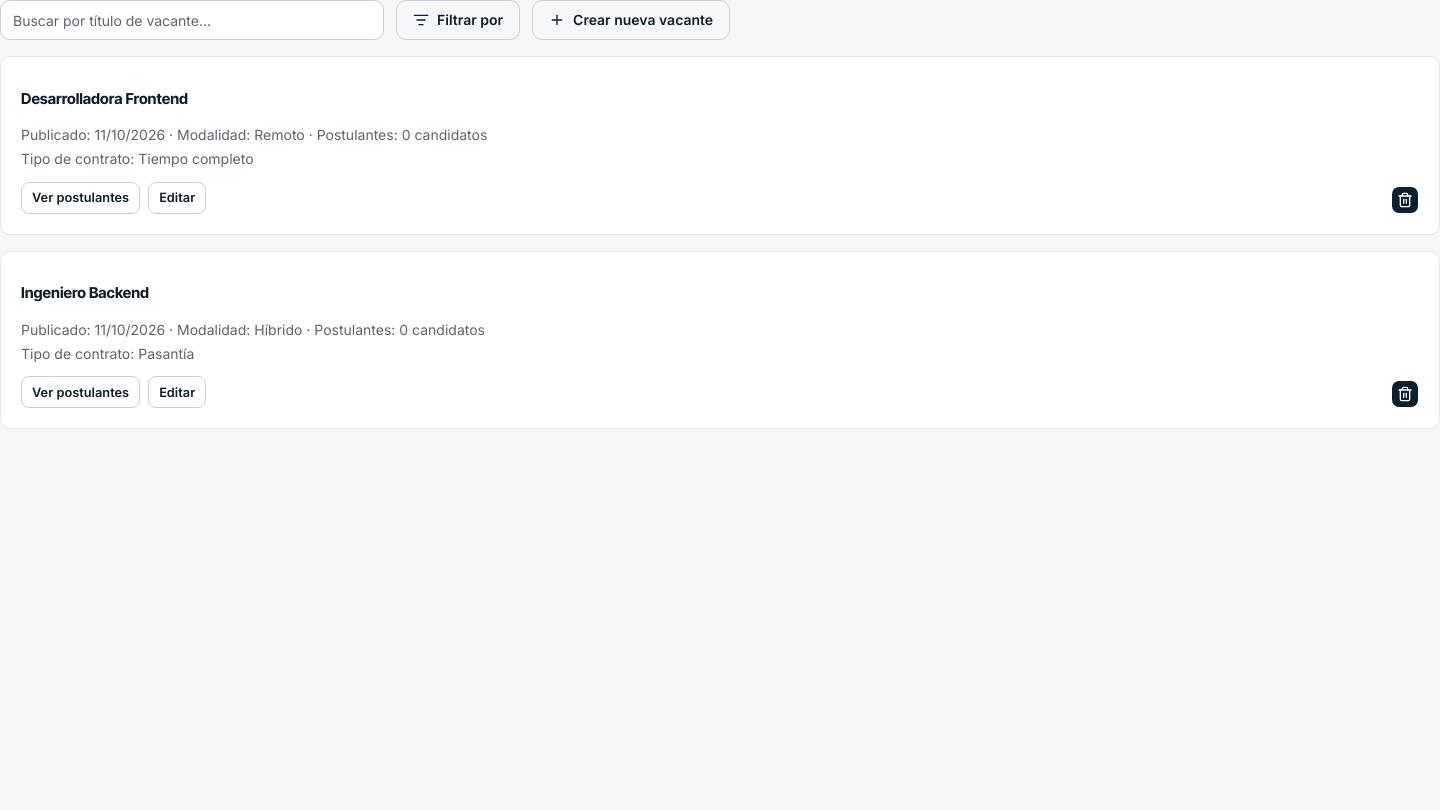
Test case: VacancyList details › abre el detalle con su encabezado y todos los campos de HU5
This screenshot has width=1440, height=810.
Click the button "Ingeniero Backend" at (85, 294), box x1=21 y1=272 x2=149 y2=316
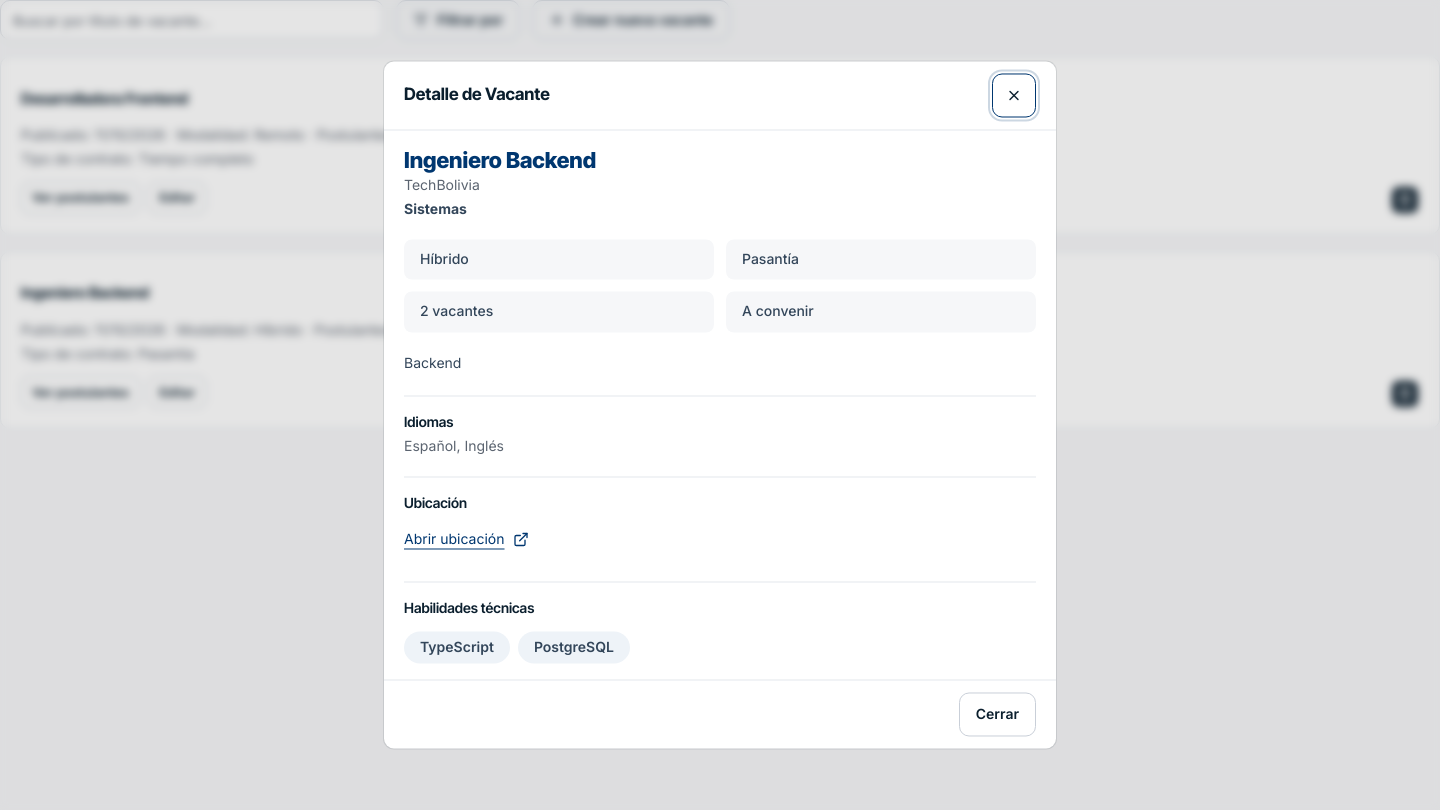
Expected: the heading "Detalle de Vacante" is shown, x1=404 y1=84 x2=550 y2=107
Expected: the heading "Ingeniero Backend" is shown, x1=404 y1=148 x2=596 y2=174
Expected: the text "Sistemas" is shown, x1=404 y1=200 x2=467 y2=217
Press Escape
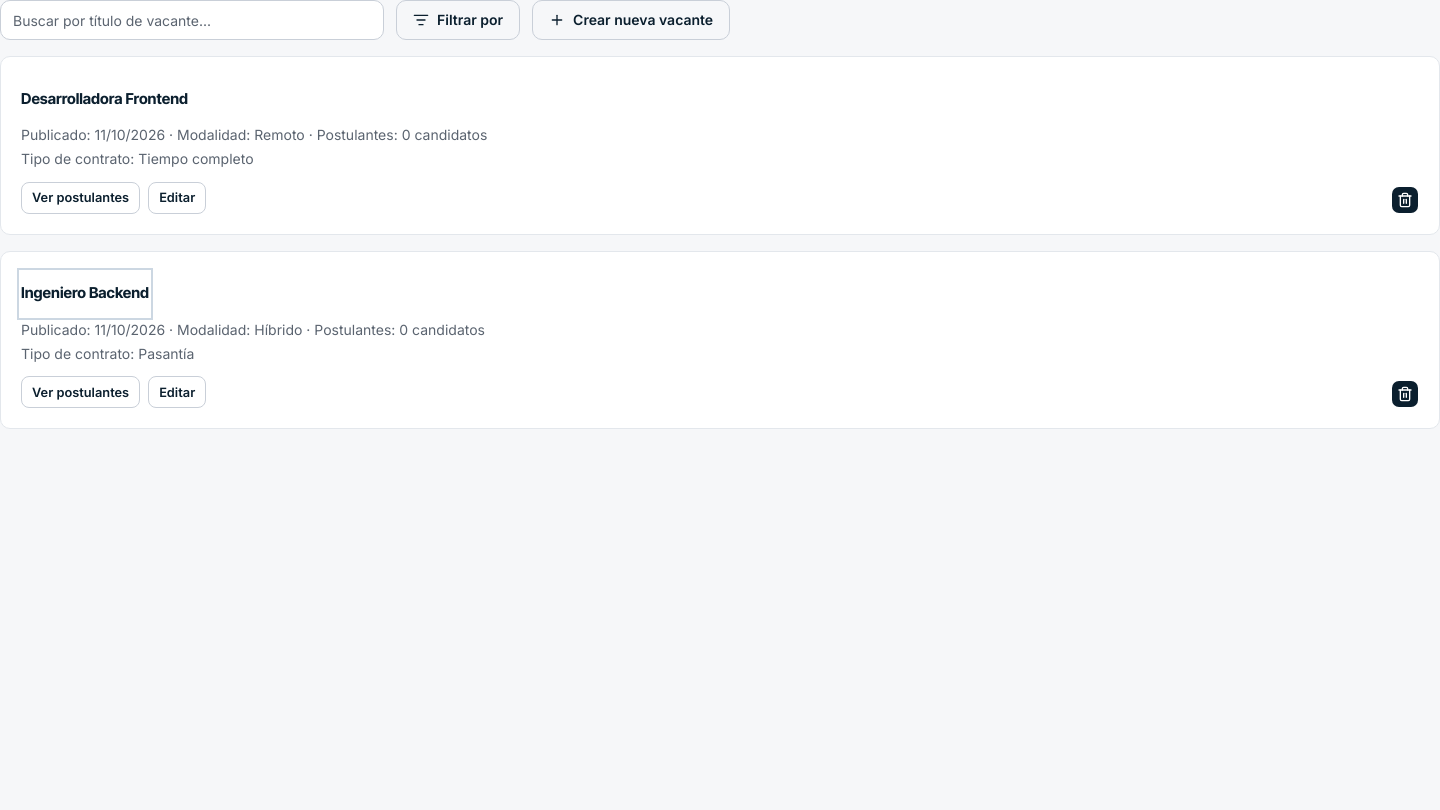
Expected: the dialog is gone
